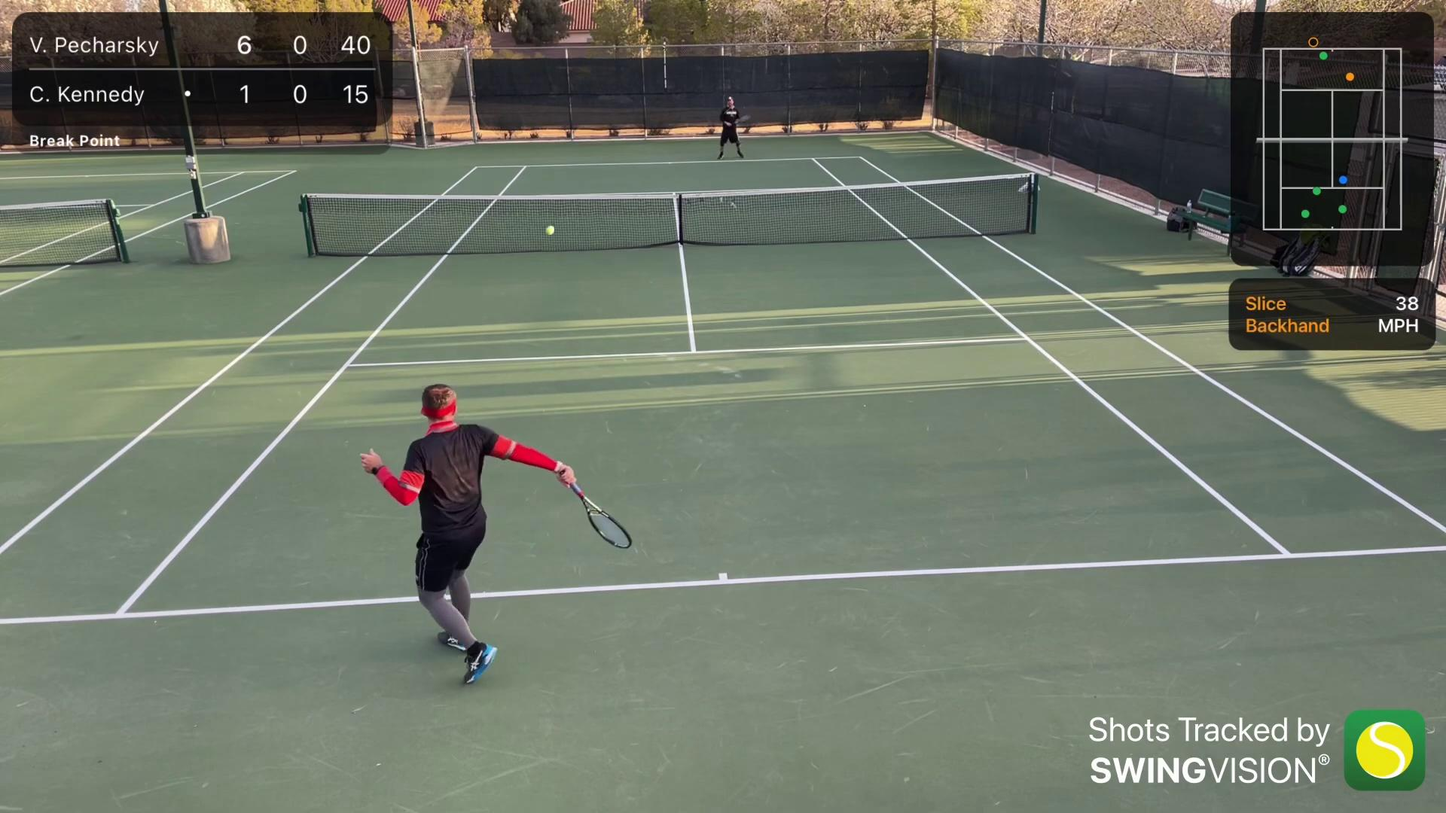ball: (543, 225, 555, 236)
